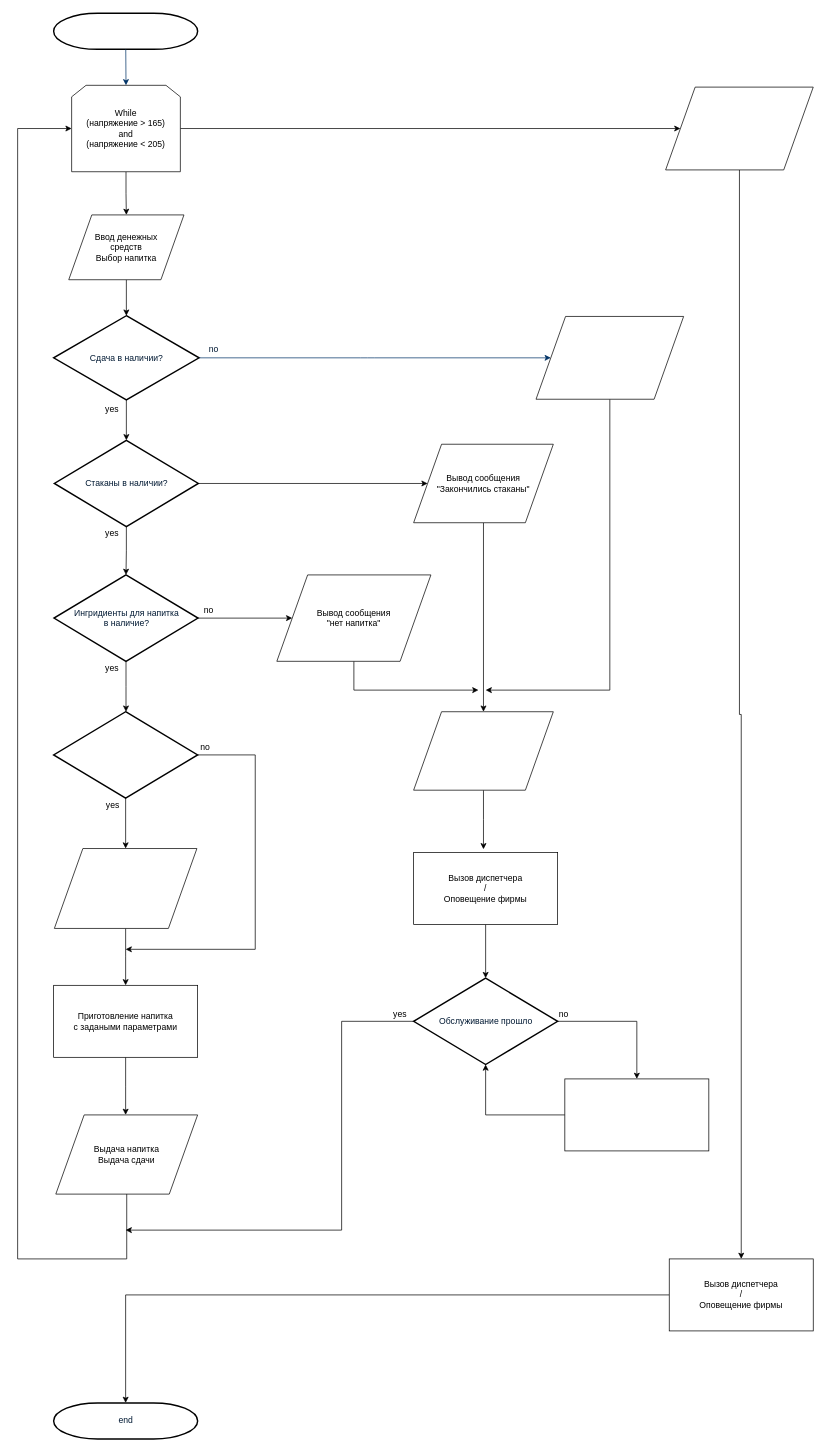
Some shapes in this 826 by 1452 pixel diagram are drawn without their labels. Each missing label, with the box of its shape:
start: (53, 12, 198, 50)
Ввод уровня сахара: (54, 848, 197, 928)
Возврат денежных средств: (413, 711, 553, 790)
Вывод сообщения "not working": (665, 86, 813, 170)
Вывод сообщения "нет сдачи": (535, 316, 684, 399)
Ожидание обслуживания: (564, 1078, 709, 1151)
Функция регулирования сахара доступна?: (53, 711, 198, 798)
